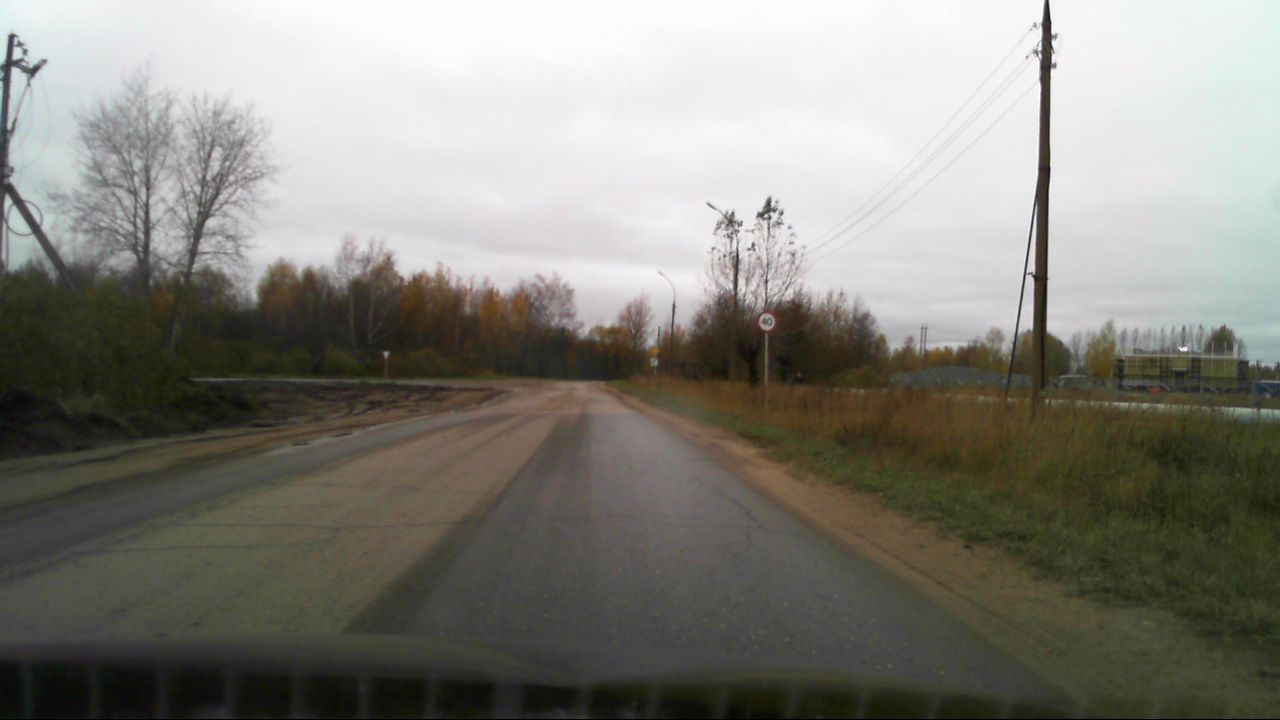speed_warning_40: (759, 312, 776, 330)
